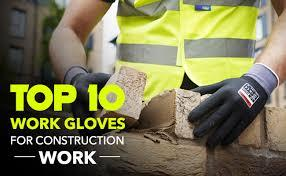gloves: (188, 63, 279, 148), (63, 66, 112, 110)
